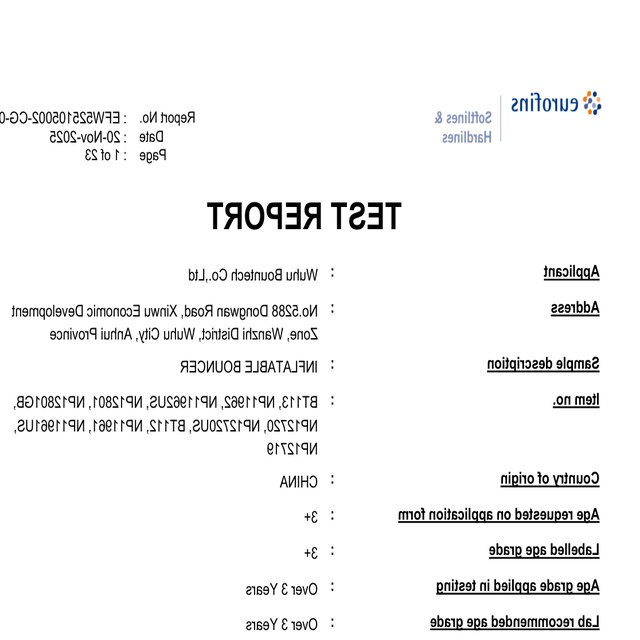eurofins: (505, 84, 609, 123)
